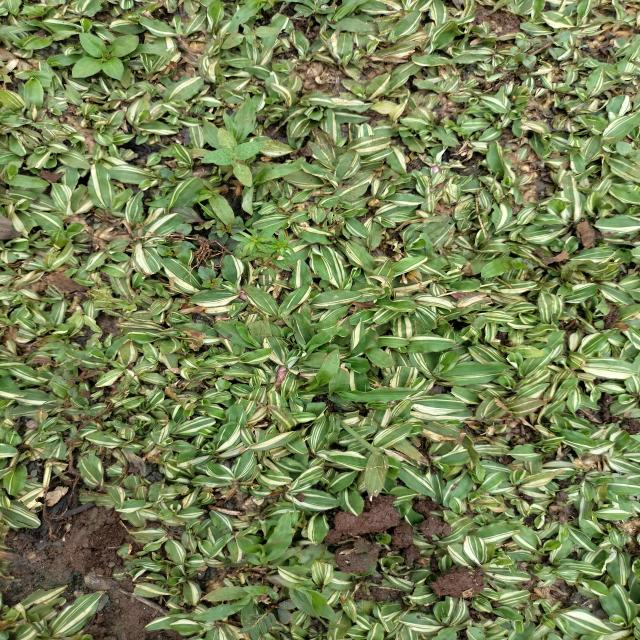akar wangi: (229, 227, 309, 277)
buah daun: (238, 598, 297, 640)
rambat bawah: (262, 574, 348, 630), (335, 414, 389, 503), (233, 508, 296, 573), (230, 163, 306, 216), (190, 581, 280, 625), (326, 366, 430, 404), (198, 91, 258, 152), (192, 183, 238, 229), (296, 324, 344, 366), (211, 317, 269, 350), (555, 258, 600, 298), (479, 254, 543, 280)
tunggang besar: (200, 127, 268, 189), (69, 30, 140, 82), (220, 22, 282, 51)
ungu tunggang: (506, 29, 573, 69), (153, 242, 199, 260), (195, 264, 225, 290), (158, 166, 181, 188)
